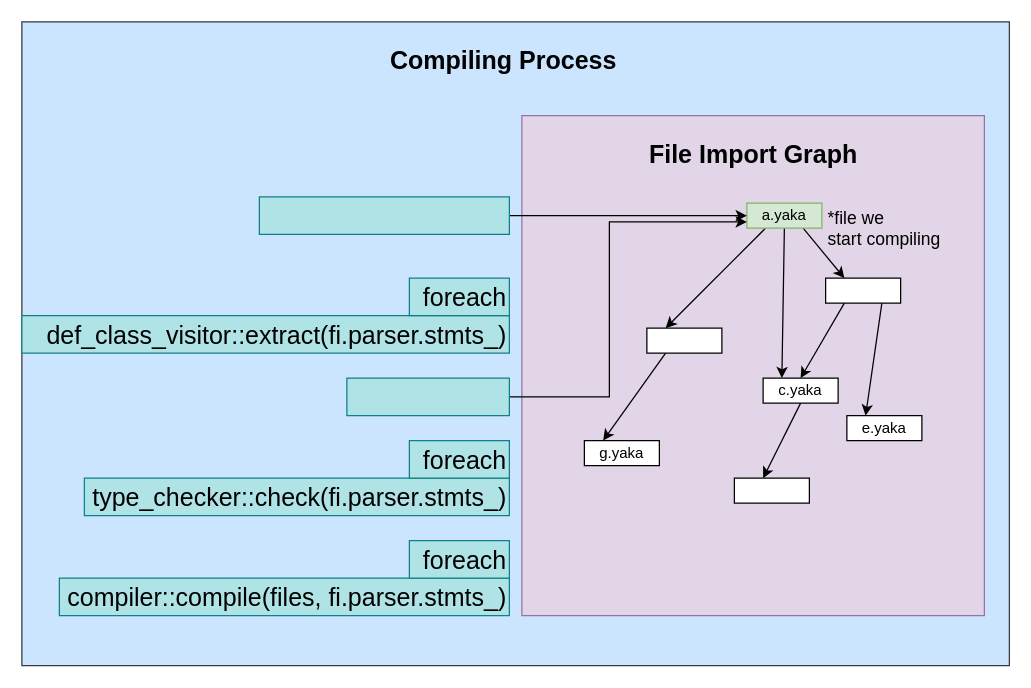
Image size: 1031x688. Some labels were removed from this diagram. The box of each missing label's shape, as (x1, y1, x2, y2) in pixels:
b.yaka: (824, 277, 901, 303)
codefiles::scan_main: (258, 196, 509, 234)
d.yaka: (733, 477, 809, 503)
f.yaka: (646, 327, 722, 353)
verify main(): (346, 377, 509, 416)
